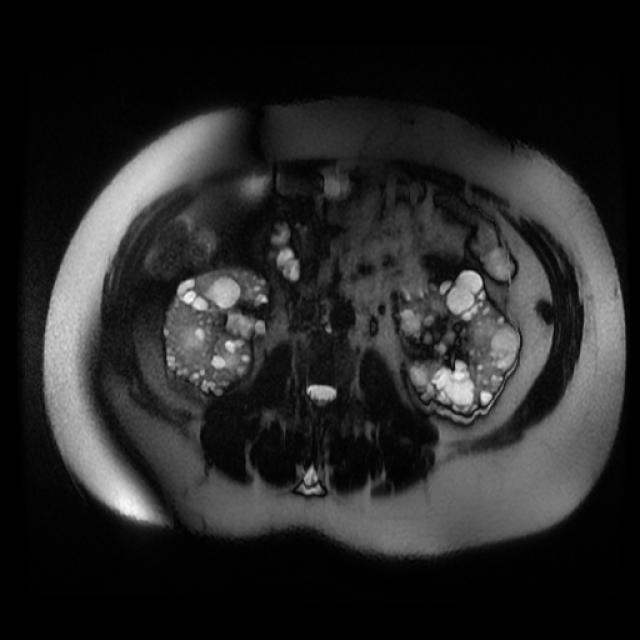sag: (163, 268, 272, 395)
sol: (401, 269, 520, 413)
